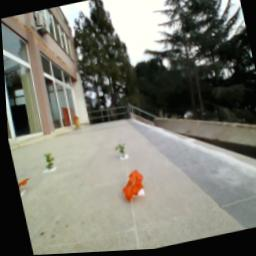herb: (41, 152, 57, 173), (113, 142, 128, 162)
wild: (115, 168, 148, 207)
